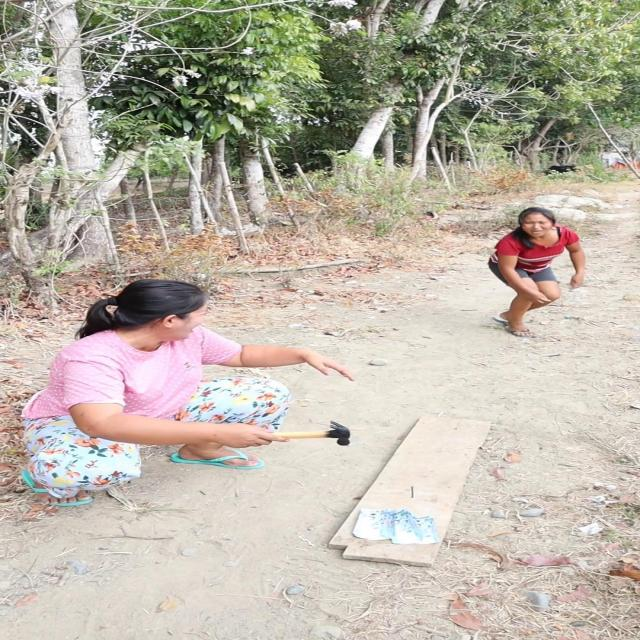hammer: (207, 421, 353, 445)
